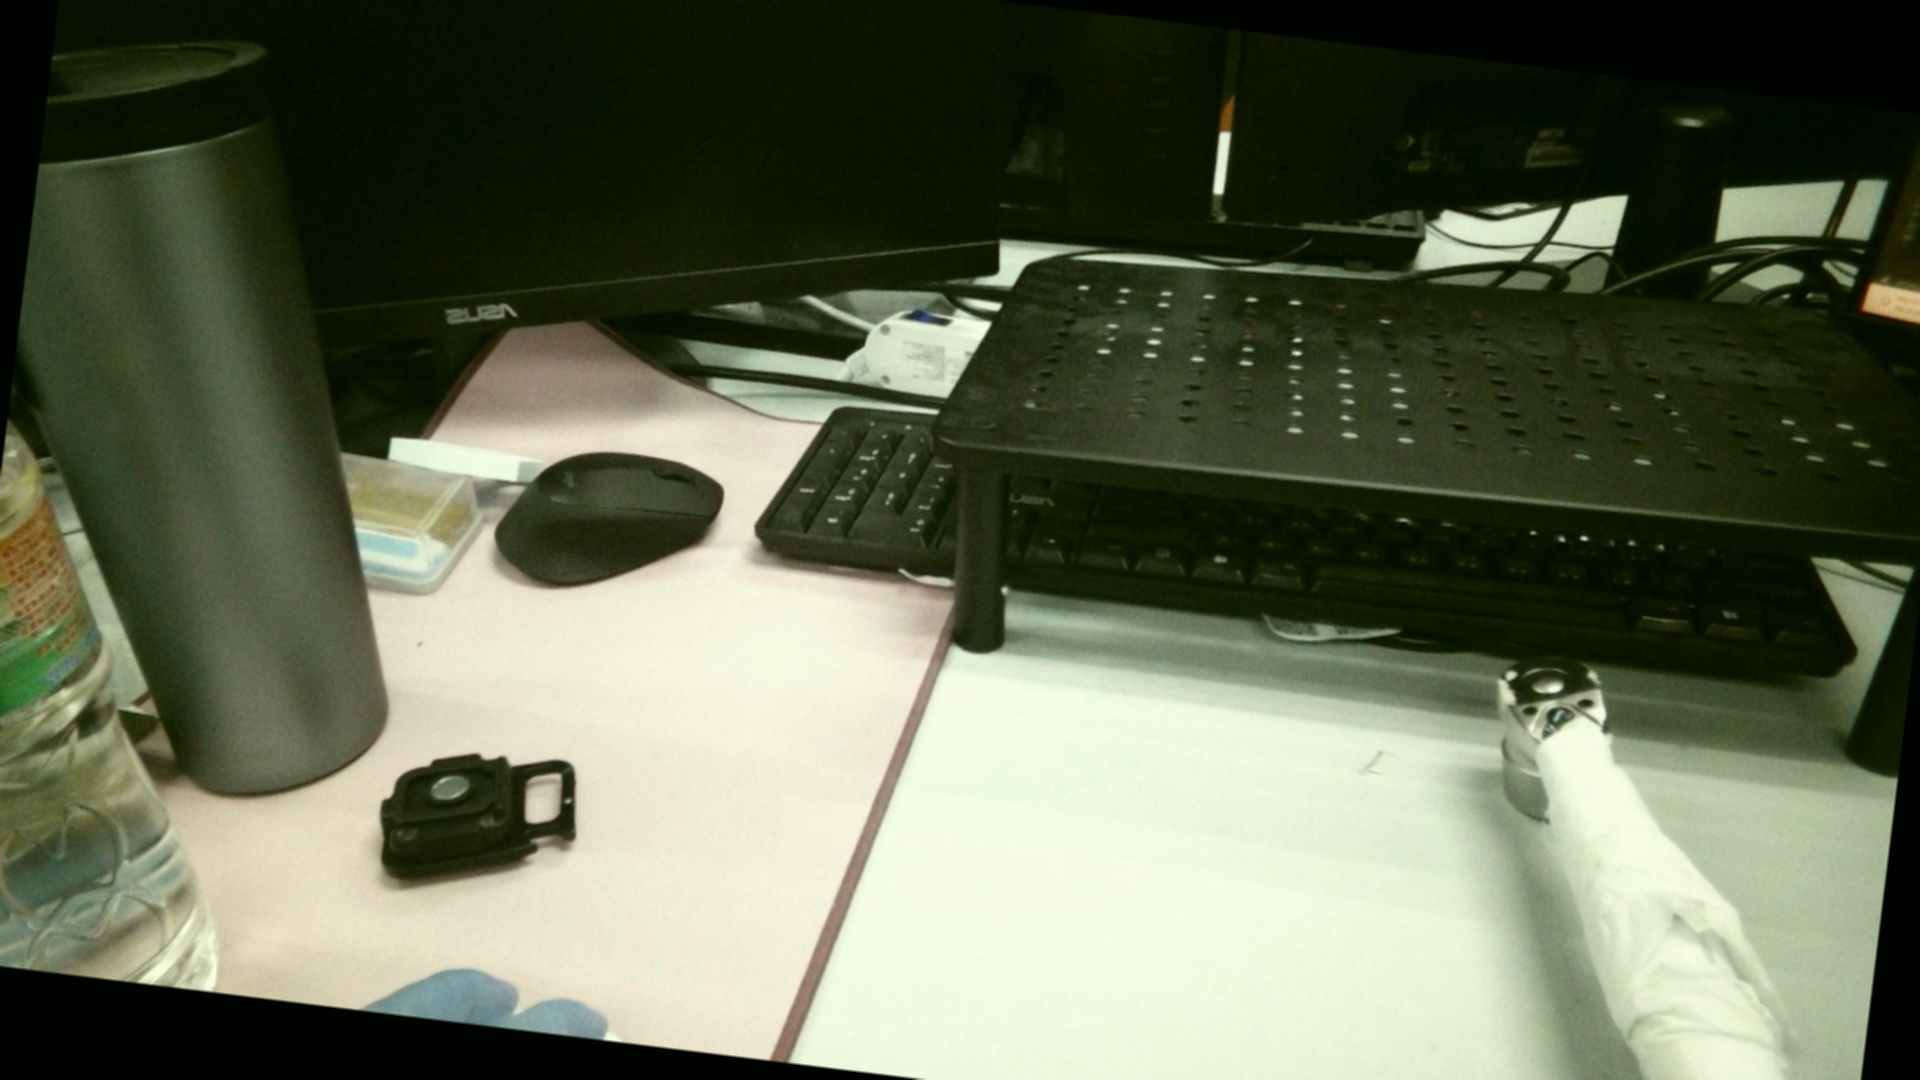wrench: (1515, 662, 1582, 709)
